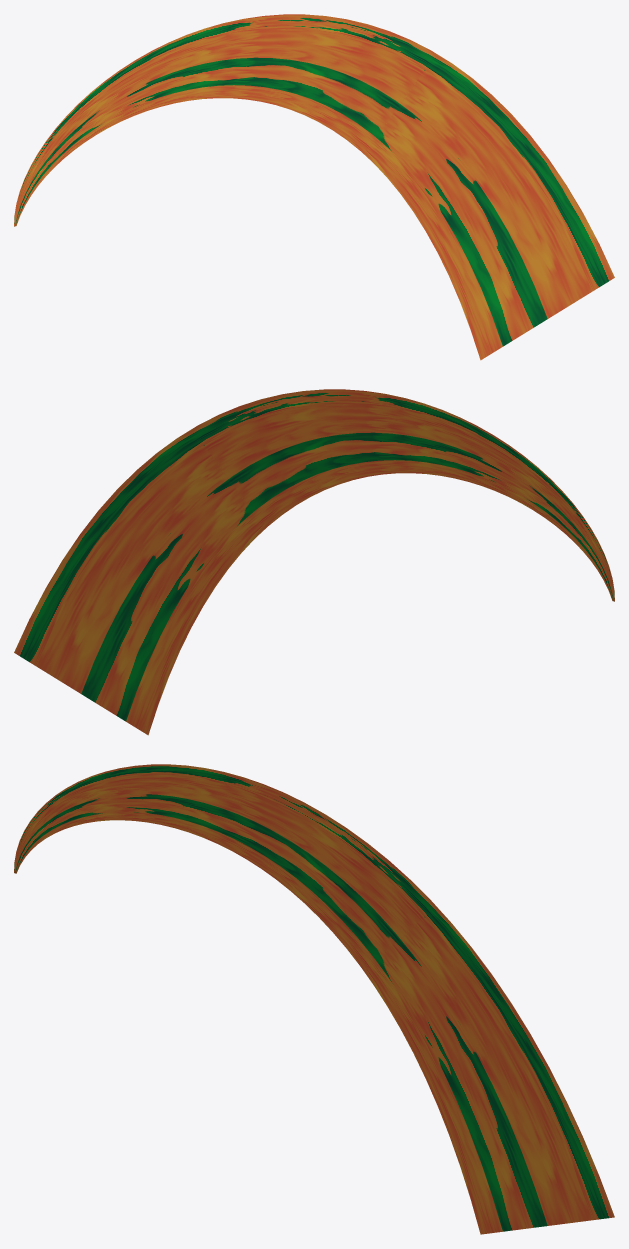
Rendered from p_trashbot_start_sprinkler03_pose2.fbx.
The picture shows the model from 3 angles, top to bottom: view 1: azimuth 30°, elevation 25°; view 2: azimuth 150°, elevation 25°; view 3: azimuth 330°, elevation 25°; orthographic projection.
Visible parts, largest first — view 1: p_sprinkle_start_plane03_pose2; view 2: p_sprinkle_start_plane03_pose2; view 3: p_sprinkle_start_plane03_pose2.
Part boxes in pixels (box(x1,y1,x2,y2)): p_sprinkle_start_plane03_pose2: box(14, 14, 614, 360); p_sprinkle_start_plane03_pose2: box(14, 389, 614, 735); p_sprinkle_start_plane03_pose2: box(14, 764, 614, 1234).
Size of the model in its own units: 101 by 64.14 by 2.38e-06.
